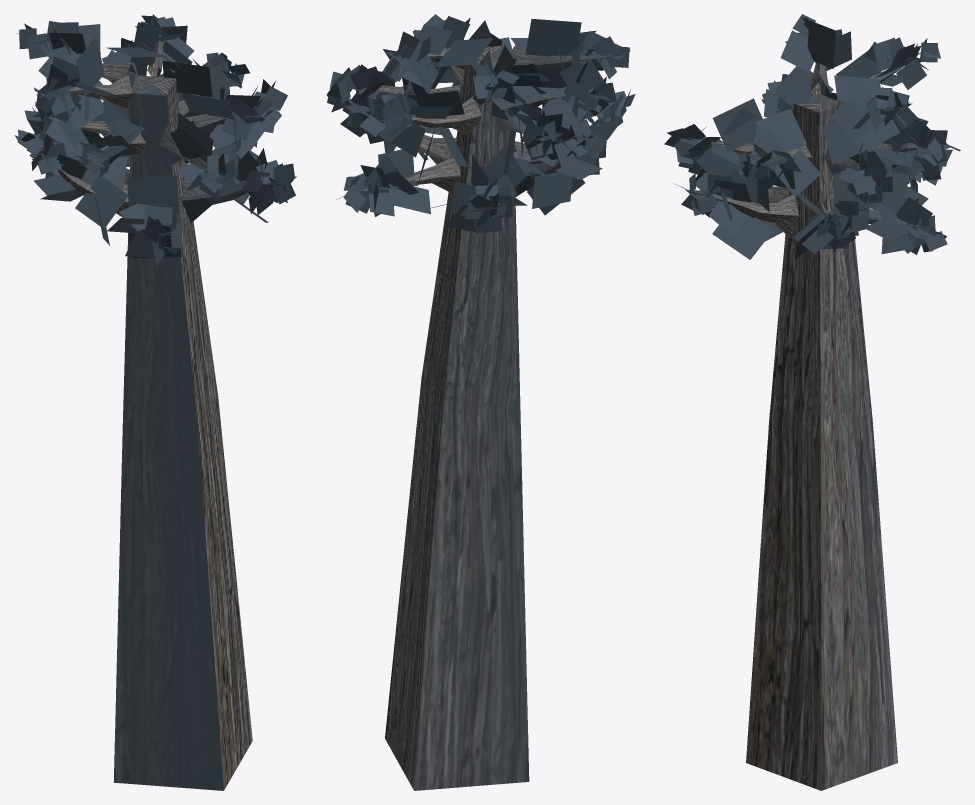
Rendered from AnotherScene.unity_1.obj.
The picture shows the model from 3 angles, left to right: view 1: azimuth 30°, elevation 25°; view 2: azimuth 150°, elevation 25°; view 3: azimuth 270°, elevation 25°; orthographic projection. The views are drawn at different scales.
Parts seen in each view (by area): view 1: Sequoia; view 2: Sequoia; view 3: Sequoia.
Part boxes in pixels (box(x1,y1,x2,y2)): Sequoia: box(14, 14, 296, 790); Sequoia: box(327, 14, 635, 790); Sequoia: box(664, 14, 960, 790).
Bounding box in the file's own units: 12.61 × 33.28 × 12.81.
Materials: 2 (2 with a texture image).
